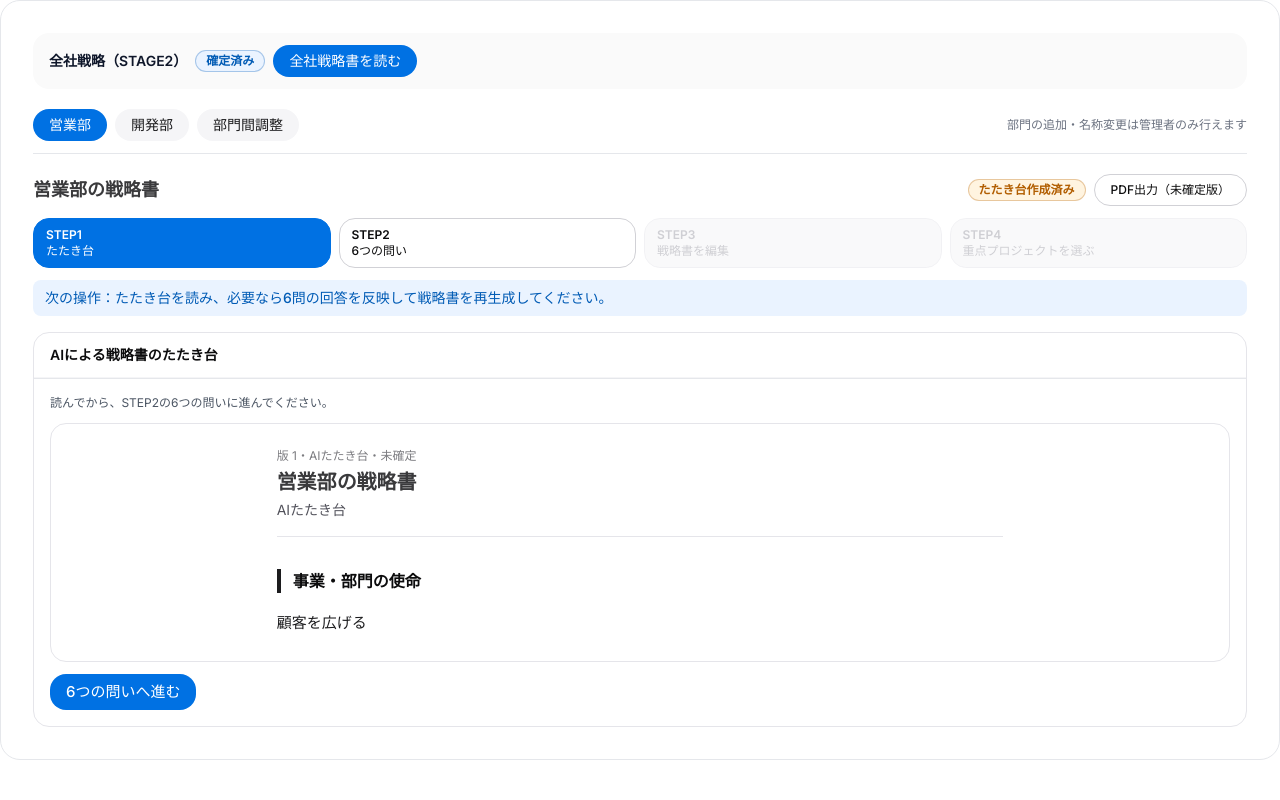
Scenario: 再生成の後は、部門間の分析を待たずに戦略書を見られる（課題No.3・18・29） › 保存が済んだら再生成した戦略書を表示し、分析中であることを示す。分析は保存した内容に対して行われる
The width and height of the screenshot is (1280, 800).
Click the button "6つの問いへ進む": (123, 692) x1=50 y1=674 x2=196 y2=710
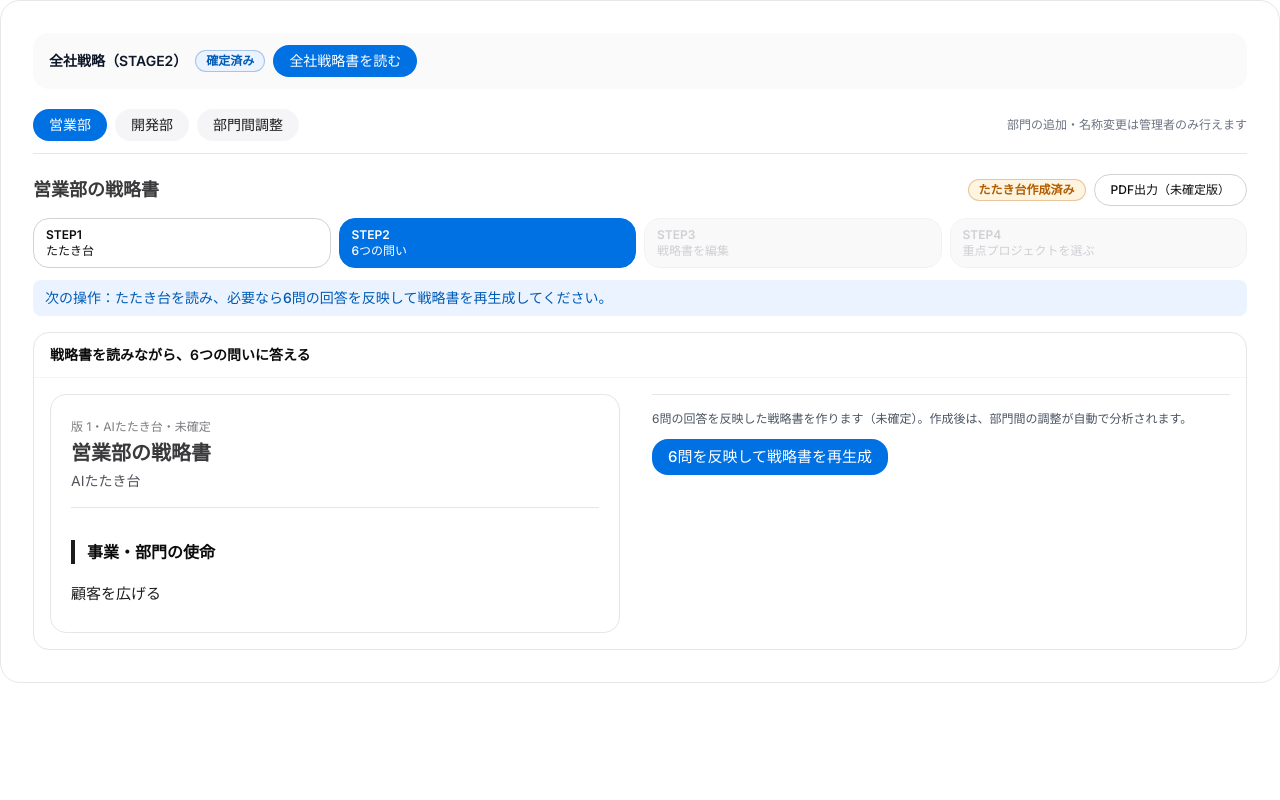
Click the button "6問を反映して戦略書を再生成": (770, 457) x1=652 y1=439 x2=888 y2=475
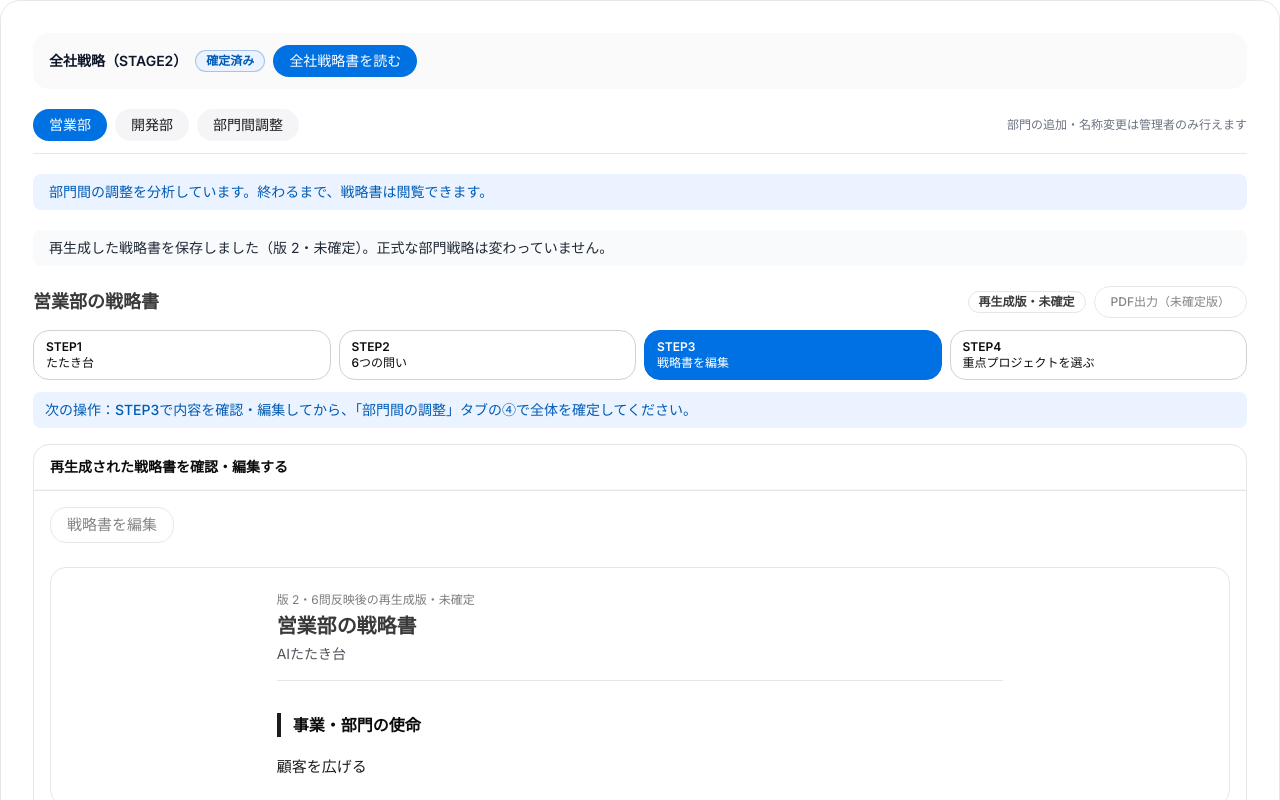
Expected: the text "部門間の調整を分析しています。終わるまで、戦略書は閲覧できます。" is shown, x1=33 y1=174 x2=1247 y2=210
Expected: the text "版 2・6問反映後の再生成版・未確定" is shown, x1=277 y1=592 x2=475 y2=607
